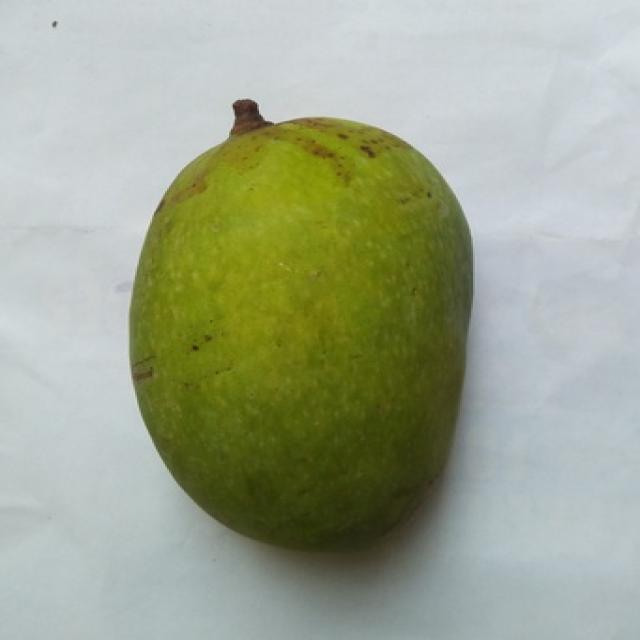Mango: (130, 108, 471, 551)
